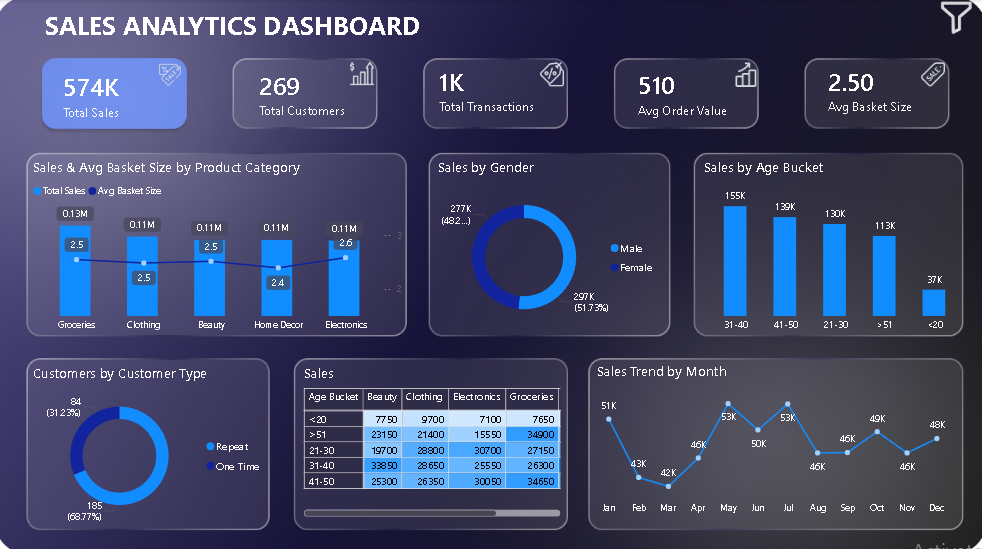

What the dashboard file says about the page in this screenshot:
{"tool":"powerbi","page":{"name":"Page 1","canvas":[1280,720],"ordinal":0},"visuals":[{"type":"cardVisual","fields":{"Data":["Measures (2).Total Sales"]},"box":[59.3,76.6,190,95],"z":0},{"type":"cardVisual","fields":{"Data":["Measures (2).Total Transactions"]},"box":[545.1,66.5,189.4,99.8],"z":1000},{"type":"cardVisual","fields":{"Data":["Measures (2).Total Customers"]},"box":[312.3,72.3,189.4,99.8],"z":2000},{"type":"cardVisual","fields":{"Data":["Measures (2).Avg Order Value"]},"box":[801,66.5,189.4,108.4],"z":3000},{"type":"cardVisual","fields":{"Data":["Measures (2).Avg Basket Size"]},"box":[1046.7,66.5,189.4,99.8],"z":4000},{"type":"lineClusteredColumnComboChart","title":"Sales & Avg Basket Size by Product Category","fields":{"Category":["retail_sales.Product Category"],"Y":["Measures (2).Total Sales"],"Y2":["Measures (2).Avg Basket Size"]},"box":[43.4,205.3,485.8,232.8],"z":5000},{"type":"donutChart","title":"Sales by Gender","fields":{"Category":["retail_sales.Gender"],"Y":["Measures (2).Total Sales"]},"box":[566.7,205.3,296.4,232.8],"z":6000},{"type":"columnChart","title":"Sales by Age Bucket","fields":{"Category":["retail_sales.Age Bucket"],"Y":["Measures (2).Total Sales"]},"box":[909.4,205.3,349.9,232.8],"z":7000},{"type":"donutChart","title":"Customers by Customer Type","fields":{"Category":["Customer Type.Customer Type"],"Y":["CountNonNull(Customer Type.Customer ID)"]},"box":[43.4,471.3,312.3,214],"z":8000},{"type":"pivotTable","title":"Sales","fields":{"Rows":["retail_sales.Age Bucket"],"Columns":["retail_sales.Product Category"],"Values":["Measures (2).Total Sales"]},"box":[393.3,471.3,341.2,202.4],"z":9000},{"type":"lineChart","title":"Sales Trend by Month","fields":{"Y":["Measures (2).Total Sales"],"Category":["retail_sales.Month"]},"box":[772,468.4,464.1,205.3],"z":10000},{"type":"image","title":"Open Slicer","box":[1215.9,0,50.6,46.3],"z":11000},{"type":"textbox","box":[59.3,5.8,500.2,66.5],"z":13000},{"type":"image","box":[211.6,78.7,28.4,37.4],"z":14000},{"type":"image","box":[458.1,76.1,31,40],"z":15000},{"type":"image","box":[703.2,78.7,31,37.4],"z":16000},{"type":"image","box":[951,78.7,36.1,37.4],"z":17000},{"type":"image","box":[1194.8,78.7,31,37.4],"z":18000}]}

Visuals, with their boxes in screenshot pixels (x1, y1, x2, y2), scaled from the page's 1280x720 canvas onto the 982x549 screenshot:
cardVisual - Measures (2).Total Sales: x1=45, y1=58, x2=191, y2=131
cardVisual - Measures (2).Total Transactions: x1=418, y1=51, x2=563, y2=127
cardVisual - Measures (2).Total Customers: x1=240, y1=55, x2=385, y2=131
cardVisual - Measures (2).Avg Order Value: x1=615, y1=51, x2=760, y2=133
cardVisual - Measures (2).Avg Basket Size: x1=803, y1=51, x2=948, y2=127
"Sales & Avg Basket Size by Product Category" lineClusteredColumnComboChart: x1=33, y1=157, x2=406, y2=334
"Sales by Gender" donutChart: x1=435, y1=157, x2=662, y2=334
"Sales by Age Bucket" columnChart: x1=698, y1=157, x2=966, y2=334
"Customers by Customer Type" donutChart: x1=33, y1=359, x2=273, y2=523
"Sales" pivotTable: x1=302, y1=359, x2=563, y2=514
"Sales Trend by Month" lineChart: x1=592, y1=357, x2=948, y2=514
"Open Slicer" image: x1=933, y1=0, x2=972, y2=35
textbox: x1=45, y1=4, x2=429, y2=55
image: x1=162, y1=60, x2=184, y2=89
image: x1=351, y1=58, x2=375, y2=89
image: x1=539, y1=60, x2=563, y2=89
image: x1=730, y1=60, x2=757, y2=89
image: x1=917, y1=60, x2=940, y2=89
